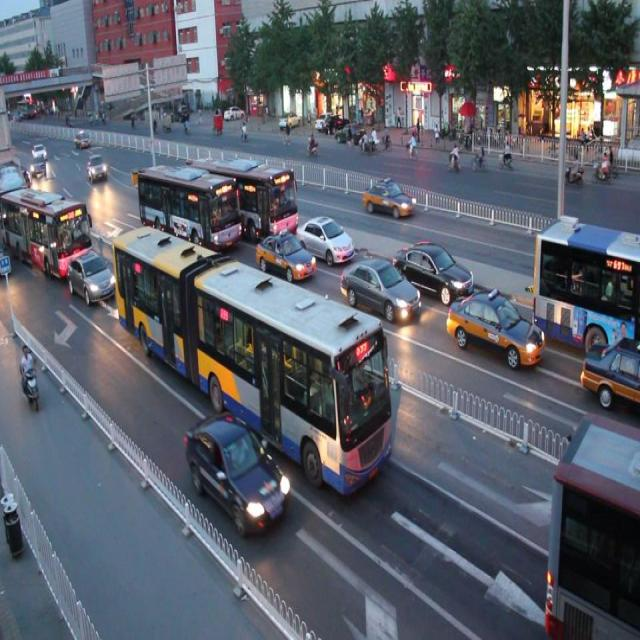car: (185, 407, 288, 536), (446, 287, 543, 368), (390, 240, 476, 304), (339, 257, 421, 324), (580, 337, 640, 410), (255, 231, 316, 285), (296, 214, 352, 266), (68, 250, 118, 306), (361, 175, 415, 223)
van: (115, 222, 392, 494), (548, 419, 640, 640), (533, 215, 640, 356), (187, 150, 298, 240), (138, 164, 241, 250), (1, 187, 93, 280)
